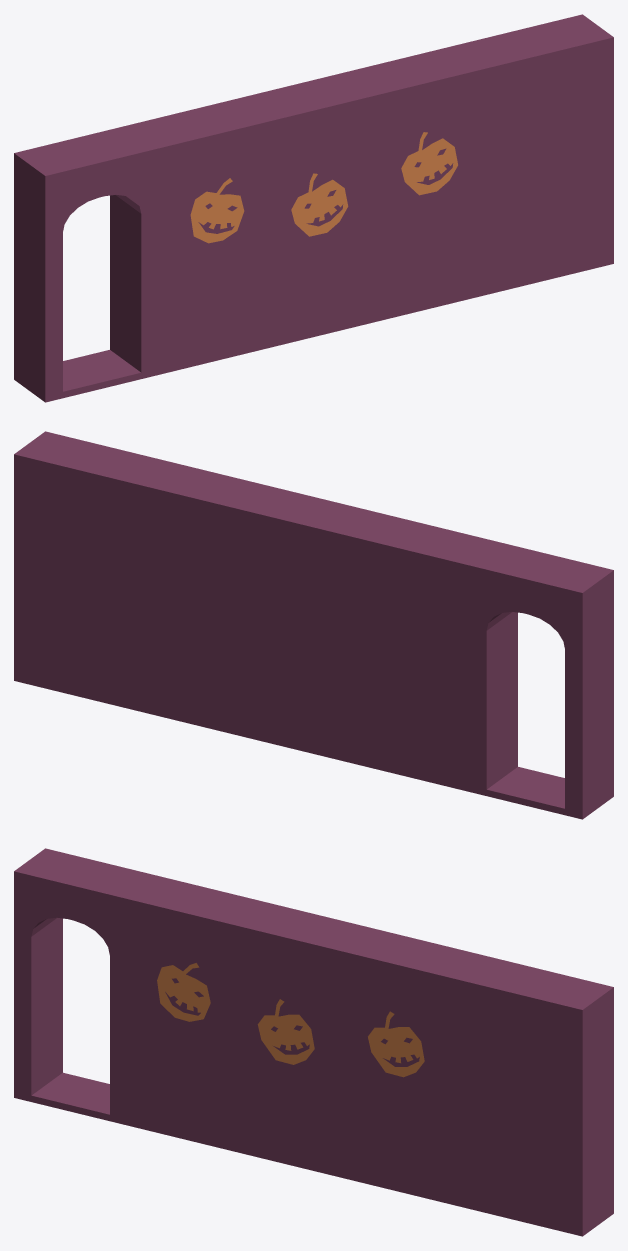
The model's file is WallRight.fbx.
3 renders of one model, top to bottom at view 1: azimuth 30°, elevation 25°; view 2: azimuth 150°, elevation 25°; view 3: azimuth 330°, elevation 25°, orthographic.
Visible parts, largest first — view 1: Cube.003; view 2: Cube.003; view 3: Cube.003.
Part boxes in pixels (x1,y1,x2,y2): Cube.003: (14, 14, 613, 402); Cube.003: (14, 431, 613, 819); Cube.003: (14, 848, 613, 1236).
Bounding box in the file's own units: 1046 × 398 × 103.
